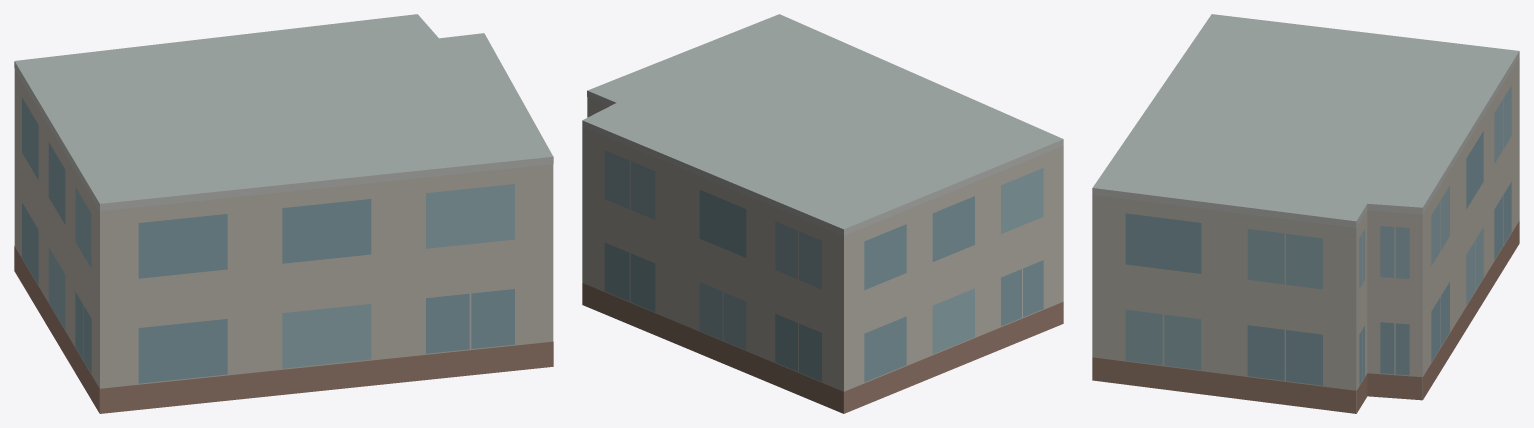
The model's file is survey-upis-32491624.glb.
3 renders of one model, left to right at view 1: azimuth 30°, elevation 25°; view 2: azimuth 150°, elevation 25°; view 3: azimuth 270°, elevation 25°, orthographic. The views are drawn at different scales.
Visible parts, largest first — view 1: survey-upis-32491624.tmp; view 2: survey-upis-32491624.tmp; view 3: survey-upis-32491624.tmp.
Part boxes in pixels (<box>): survey-upis-32491624.tmp: <box>14,14,553,413</box>; survey-upis-32491624.tmp: <box>582,14,1063,413</box>; survey-upis-32491624.tmp: <box>1092,14,1519,413</box>.
Size of the model in its own units: 16.18 by 7 by 14.08.
